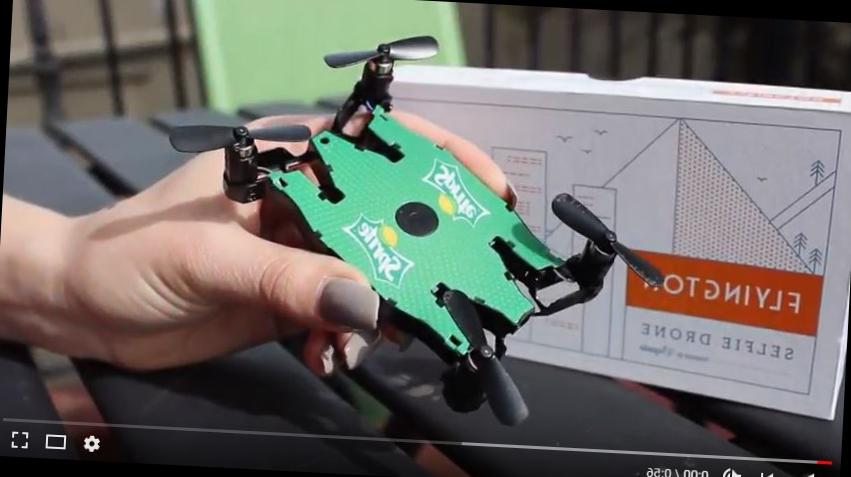drone: (148, 7, 658, 414)
